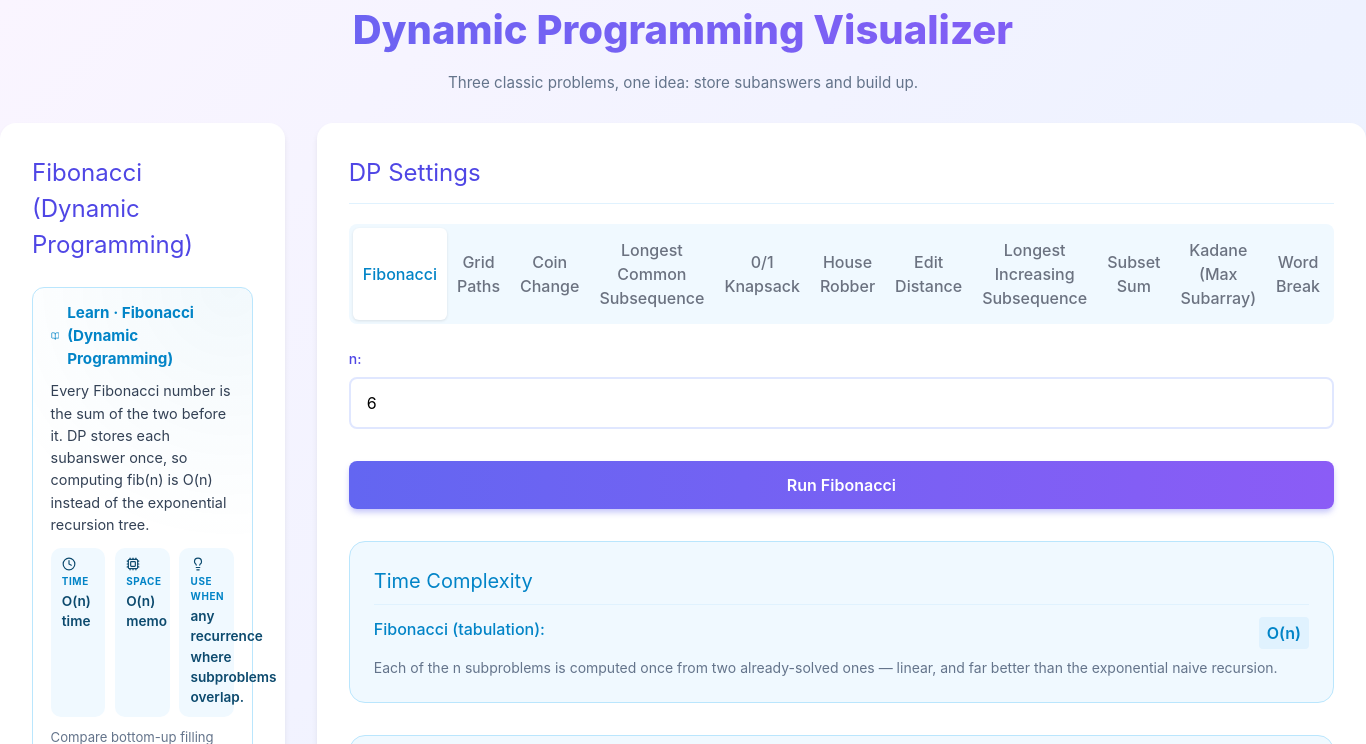
Test: DynamicProgramming › word break tab segments the default string and records the run
The image size is (1366, 744).
Click the button "Word Break": (1298, 274) [1266,228,1330,320]
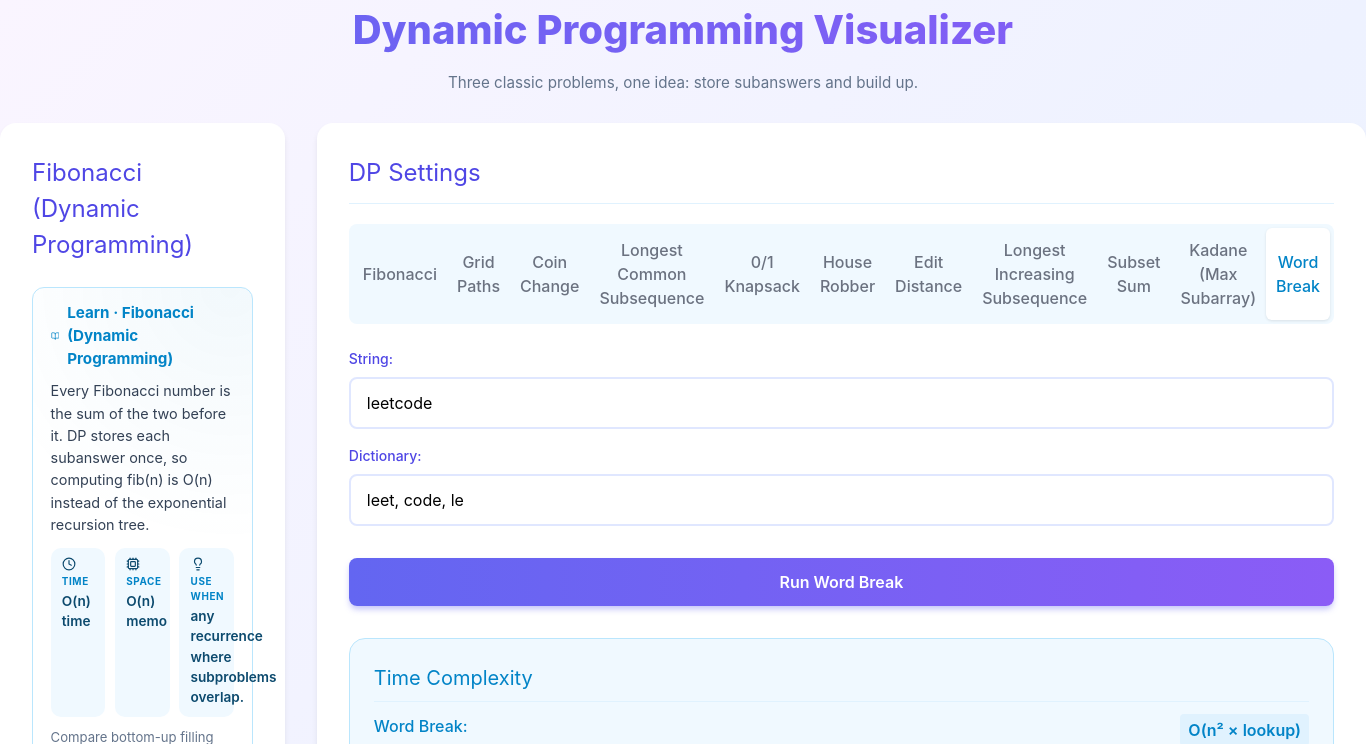
Click the button "Run Word Break": (841, 582) [349,558,1334,606]
Wait 60000 ms
(page scrolled)
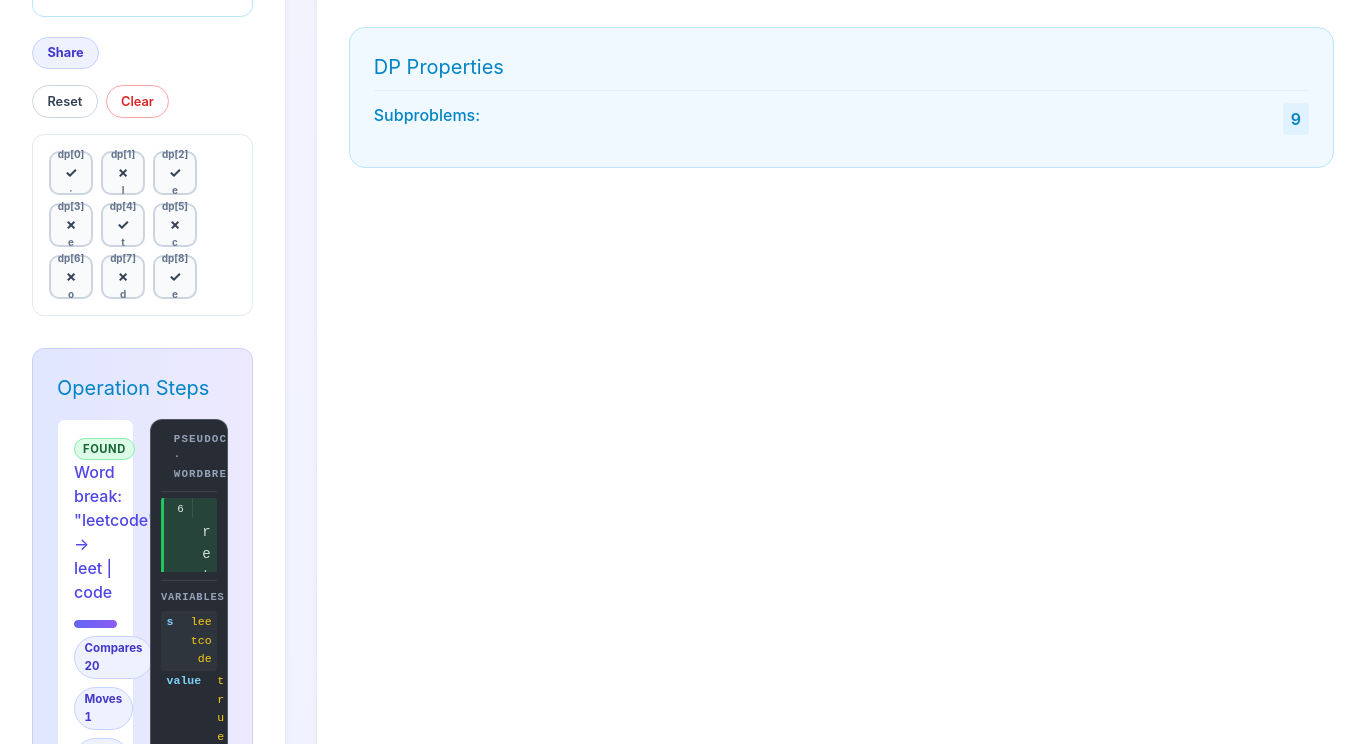
Expected: the text "Word break: \"leetcode\" → leet | code" is shown, [74,462,156,602]
